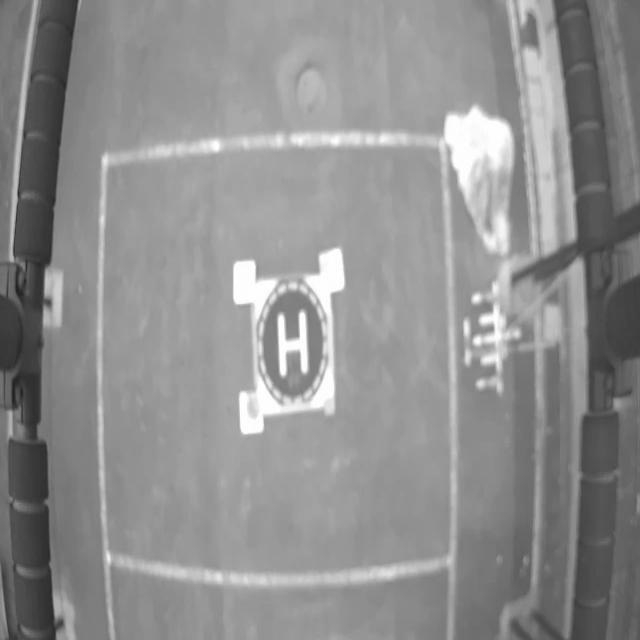Helipad: (277, 310, 310, 378)
